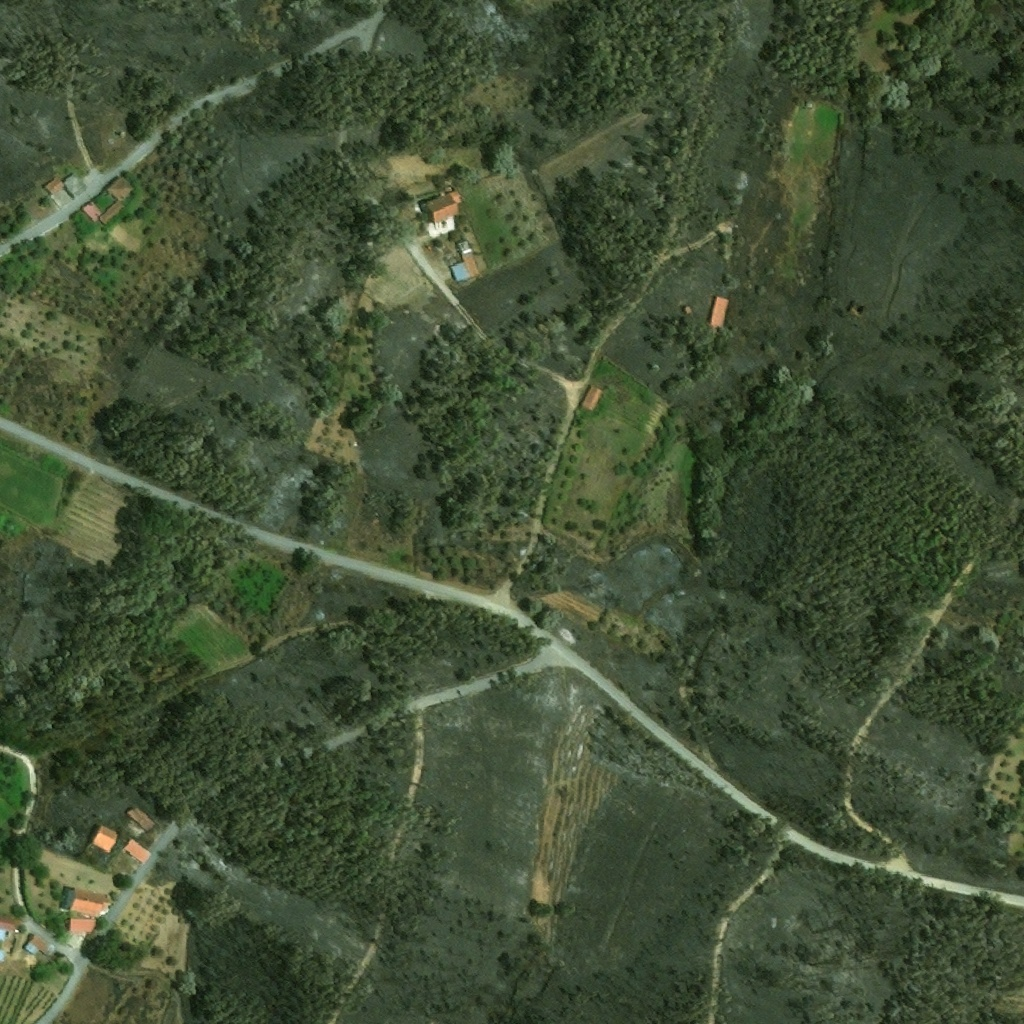0 no-damage: (420, 194, 460, 238), (69, 889, 112, 915), (124, 804, 154, 830), (124, 839, 153, 864), (708, 296, 730, 328), (63, 172, 89, 197), (93, 826, 118, 852), (579, 385, 603, 411), (109, 176, 135, 200), (23, 934, 51, 956), (99, 200, 124, 224), (0, 914, 21, 941), (463, 252, 481, 277), (81, 202, 102, 220), (45, 175, 63, 194), (451, 262, 469, 280), (70, 919, 97, 931), (457, 240, 472, 256), (450, 189, 464, 206), (0, 950, 6, 962), (807, 100, 813, 109)
3 destroyed: (714, 216, 737, 235), (849, 299, 864, 317), (740, 171, 751, 190), (423, 334, 436, 350)
